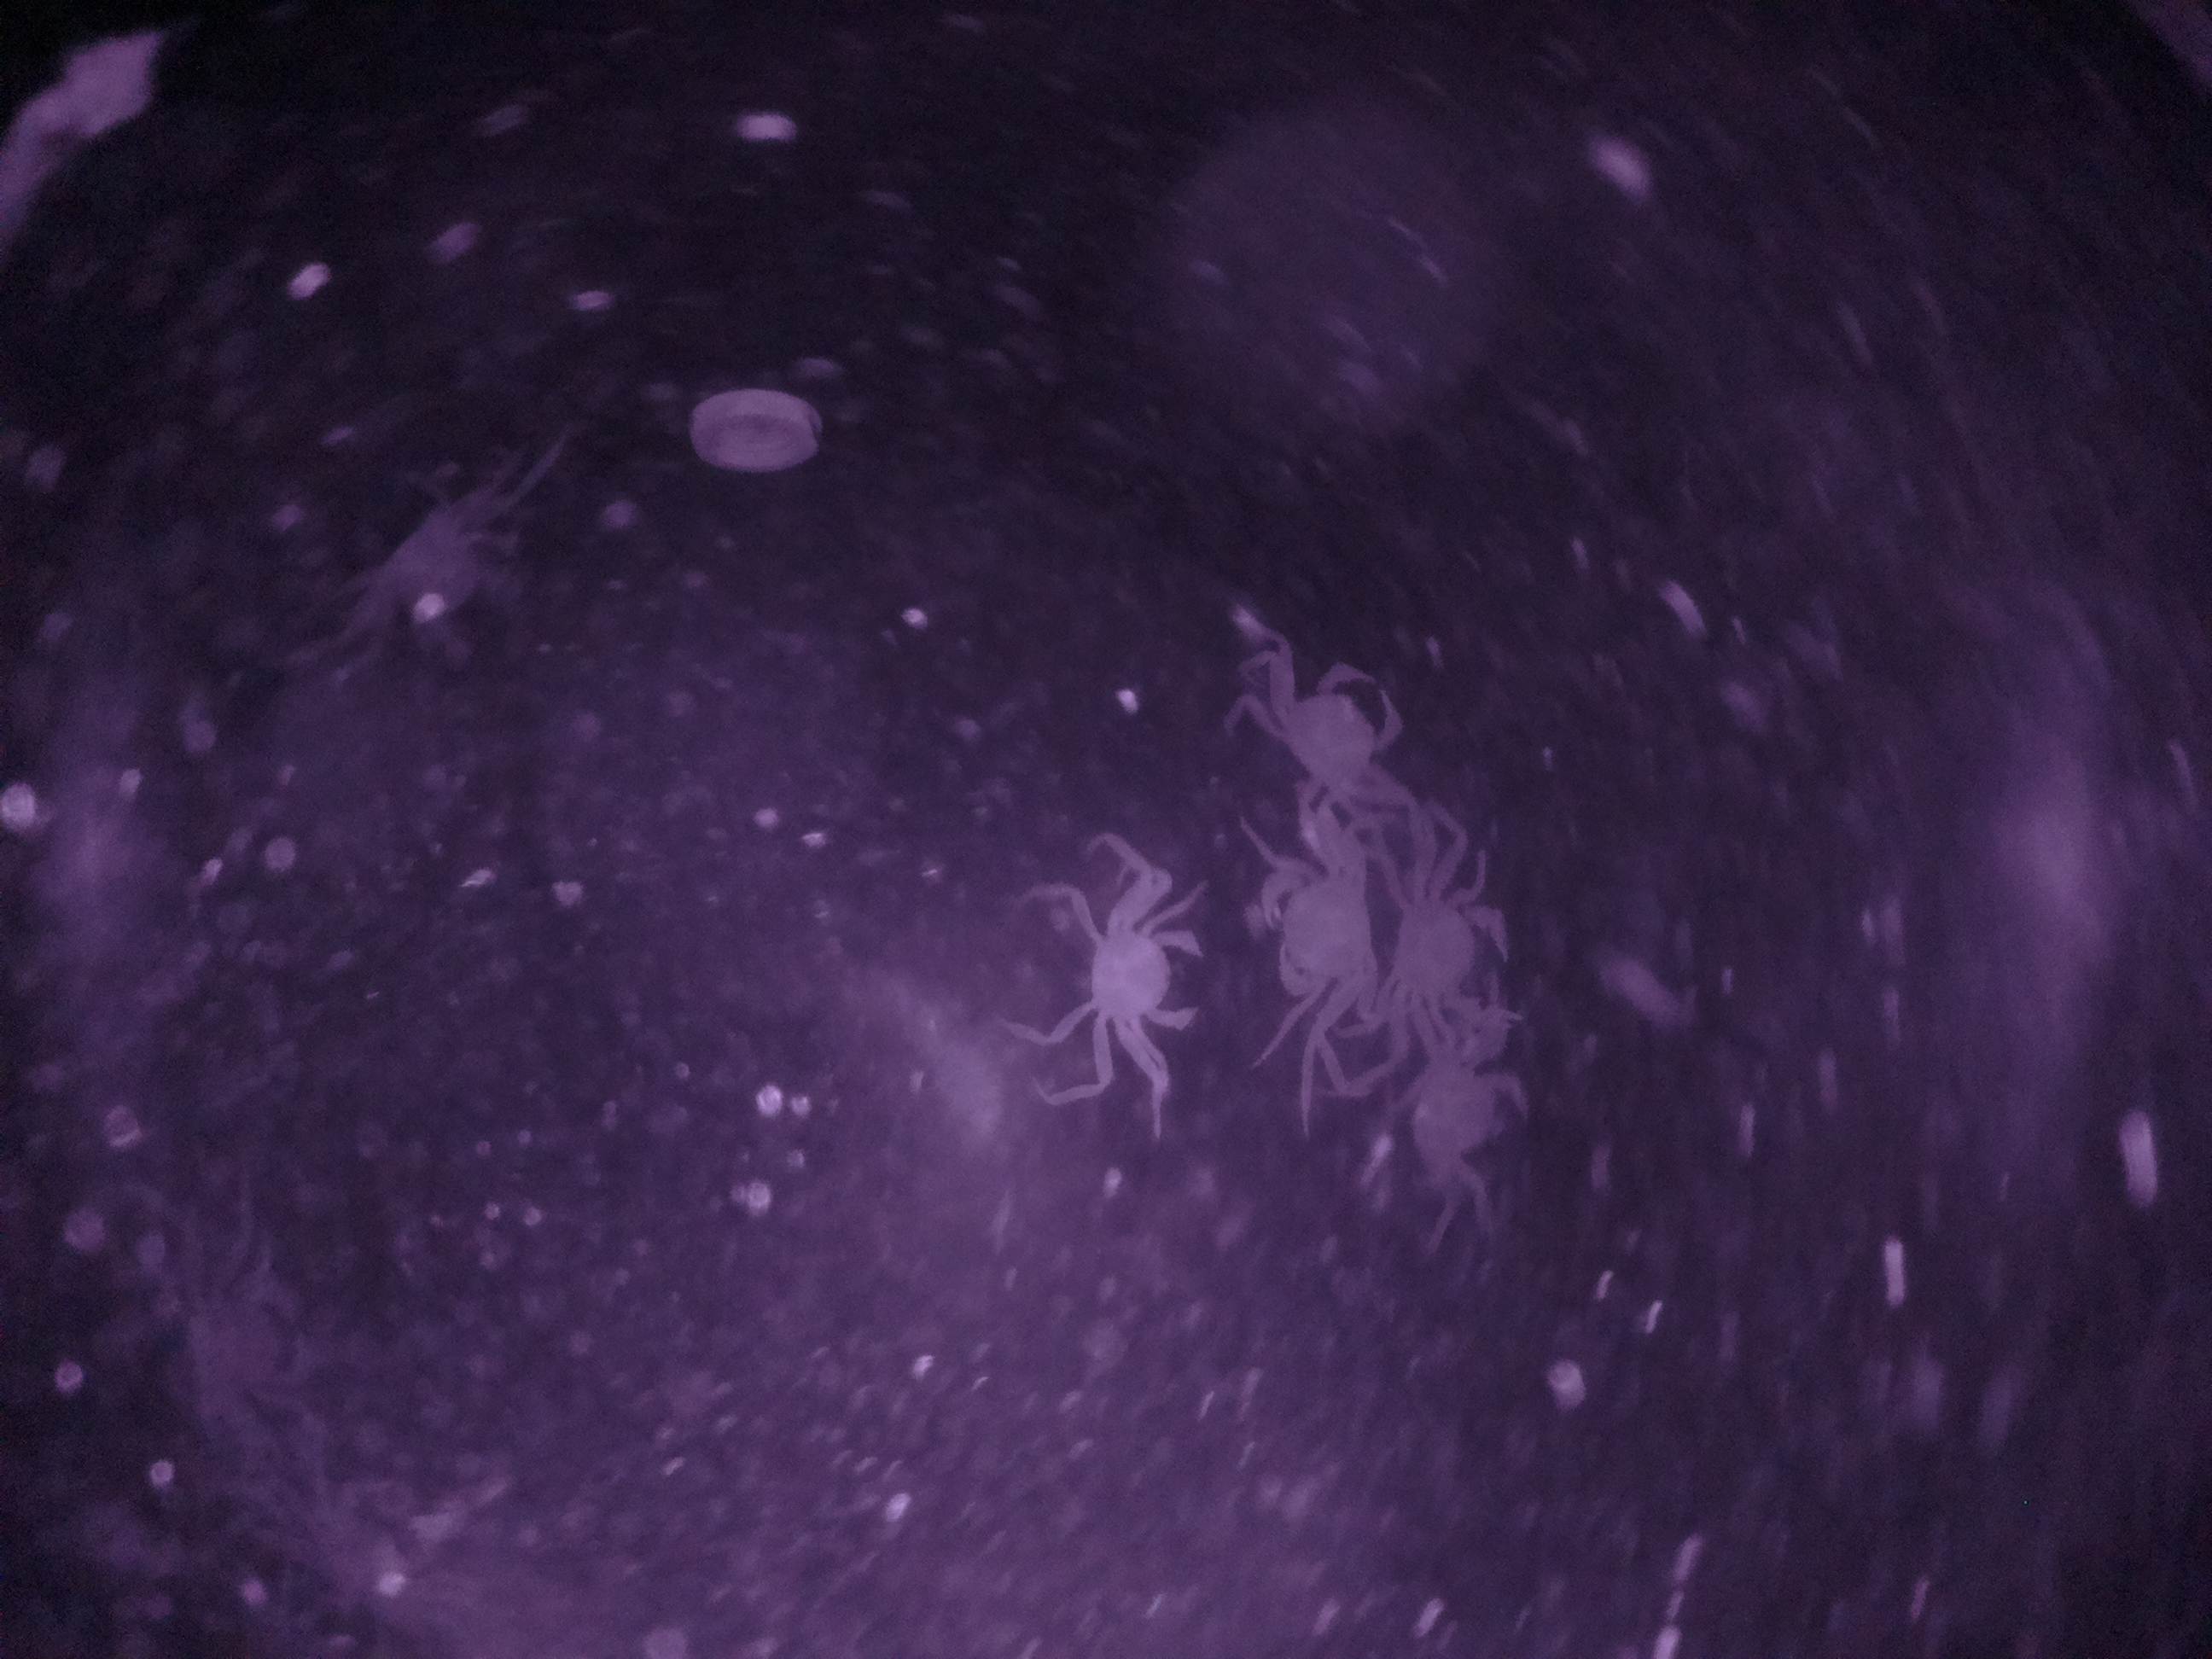Crab: (1042, 847, 1209, 1105), (1252, 817, 1390, 1035)
